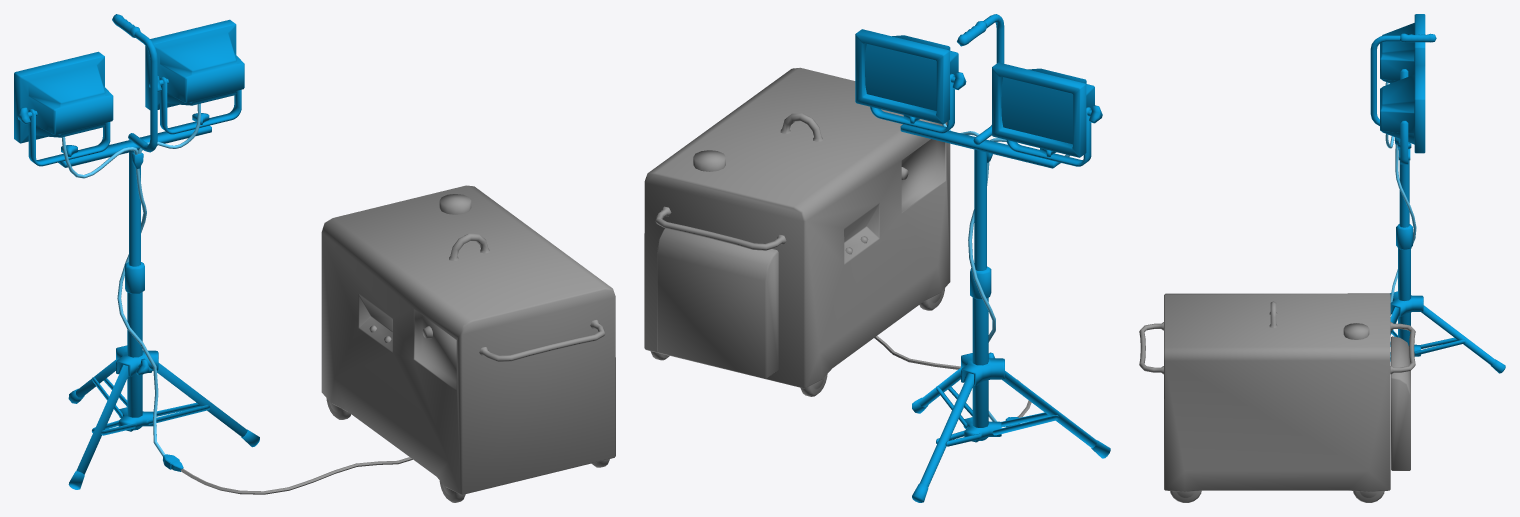
File: generator_skfb.fbx
The picture shows the model from 3 angles, left to right: view 1: azimuth 30°, elevation 25°; view 2: azimuth 150°, elevation 25°; view 3: azimuth 270°, elevation 25°; orthographic projection. The views are drawn at different scales.
Parts seen in each view (by area): view 1: body_lp, zlaczka_lp, handle2_lp, Line001; view 2: body_lp, zlaczka_lp, vent_lp, handle3_lp, knob1_lp, handle1_lp; view 3: body_lp, zlaczka_lp, vent_lp, handle3_lp, handle2_lp.
Boxes of the visible parts, left/top/right/bottom form: body_lp: left=321, top=185, right=615, bottom=494; zlaczka_lp: left=14, top=14, right=259, bottom=489; handle2_lp: left=479, top=320, right=605, bottom=361; Line001: left=180, top=457, right=412, bottom=494; body_lp: left=644, top=67, right=950, bottom=388; zlaczka_lp: left=855, top=14, right=1110, bottom=502; vent_lp: left=657, top=228, right=778, bottom=378; handle3_lp: left=655, top=206, right=786, bottom=250; knob1_lp: left=693, top=150, right=725, bottom=171; handle1_lp: left=780, top=113, right=822, bottom=141; body_lp: left=1164, top=293, right=1390, bottom=491; zlaczka_lp: left=1370, top=14, right=1505, bottom=373; vent_lp: left=1391, top=336, right=1410, bottom=470; handle3_lp: left=1390, top=322, right=1415, bottom=374; handle2_lp: left=1139, top=322, right=1163, bottom=374.
Size of the model in its own units: 138 by 123 by 120.
